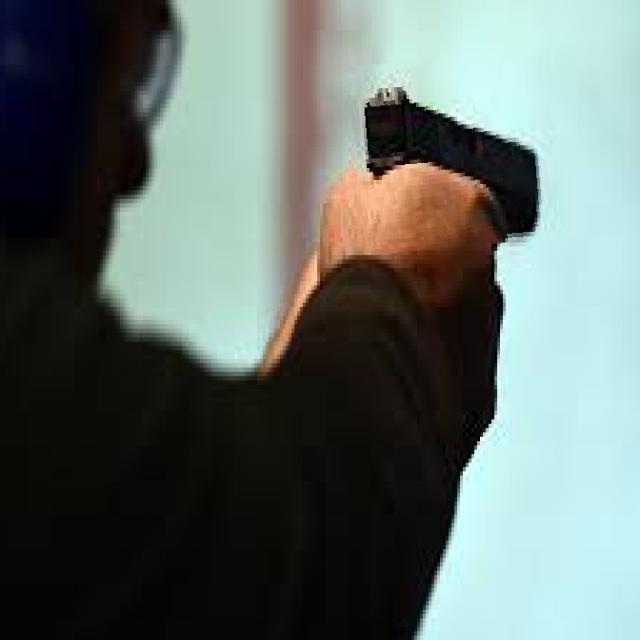Gun_Holder: (294, 63, 551, 376)
